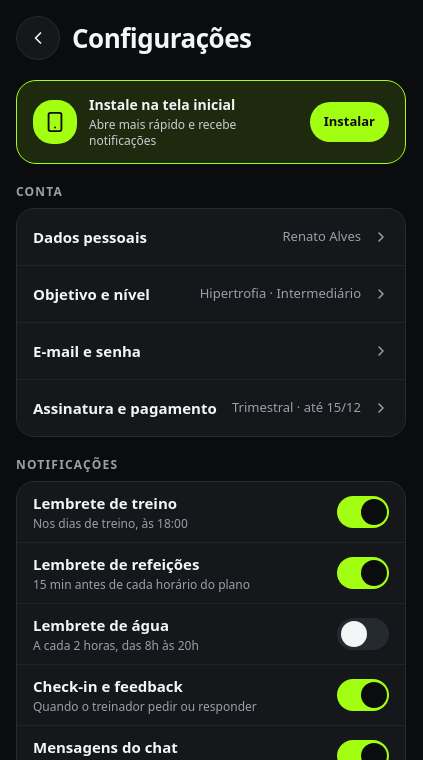
Test: Configurações › instalar: usa o convite do navegador
Expected: the heading "Configurações" is shown, [72,18,252,58]
Click the button "Instalar" at (349, 122), box [310,102,389,142]
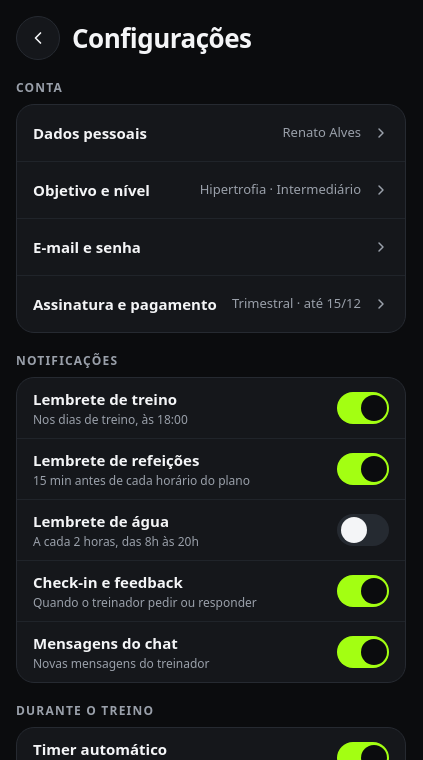
Expected: the heading "Instale na tela inicial" is gone
